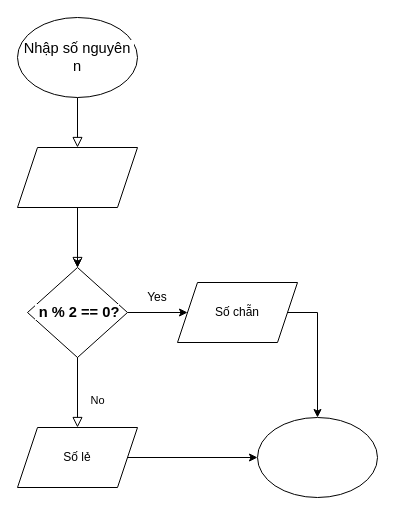
This 395x515 diagram has some shape labels left out. The centre of each missing label's shape, as x and y in pixels:
"End" goes at (317,457).
"Nhập n" goes at (77,177).
